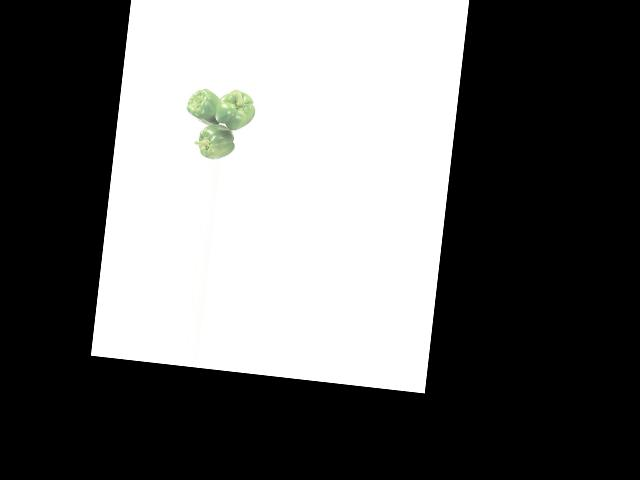bell_pepper: (212, 84, 261, 132)
